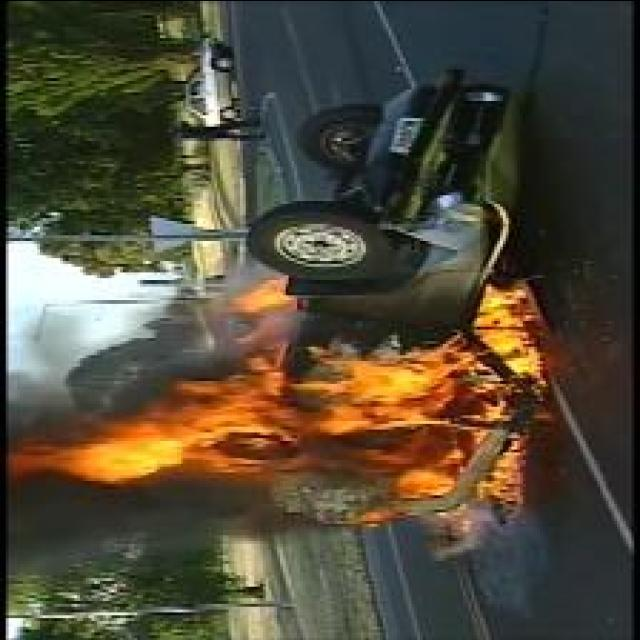Fire: (6, 278, 543, 532), (234, 274, 300, 308)
